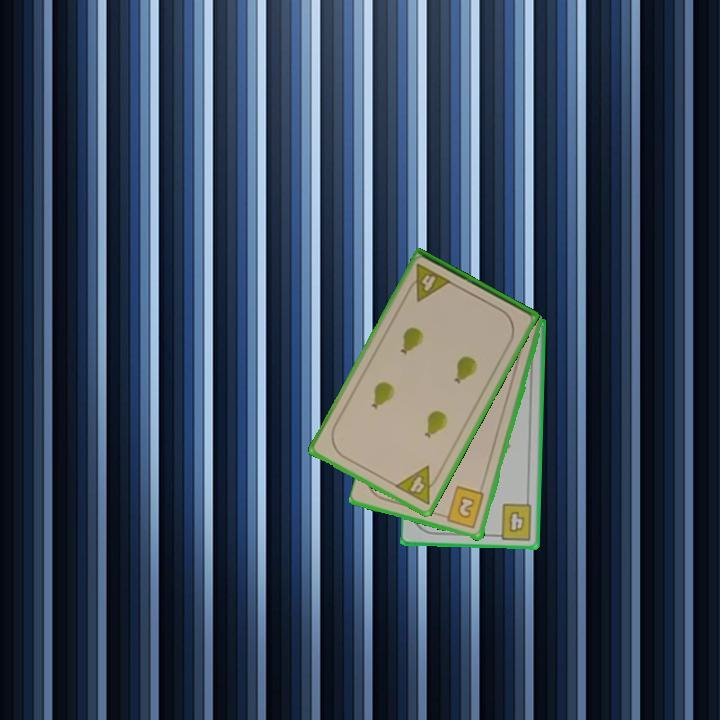2b: (438, 483, 487, 531)
4b: (491, 500, 535, 543)
4p: (391, 462, 444, 508), (402, 260, 454, 304)
